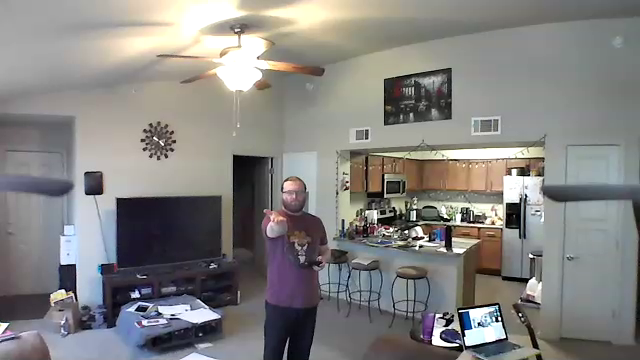land: (259, 205, 293, 226)
